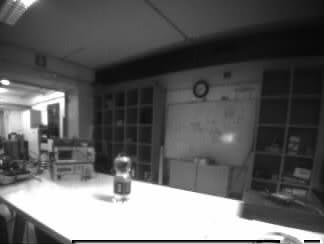Bottle: (113, 152, 131, 203)
